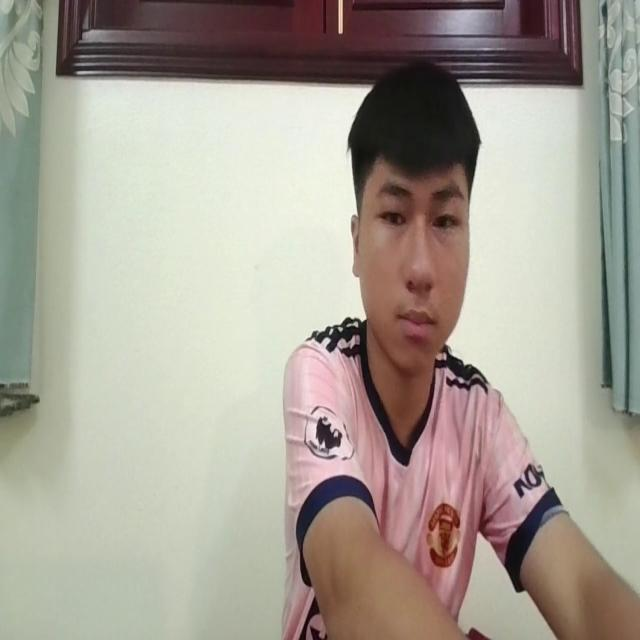student: (275, 50, 640, 640)
